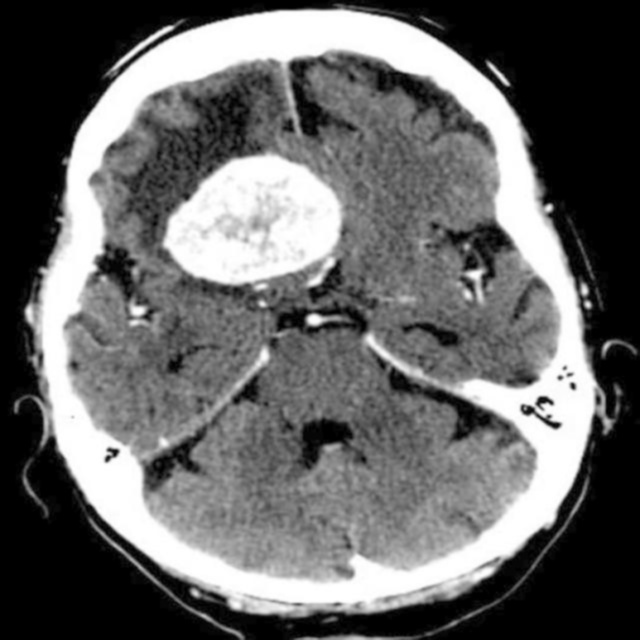meningioma tumor: (159, 145, 365, 310)
